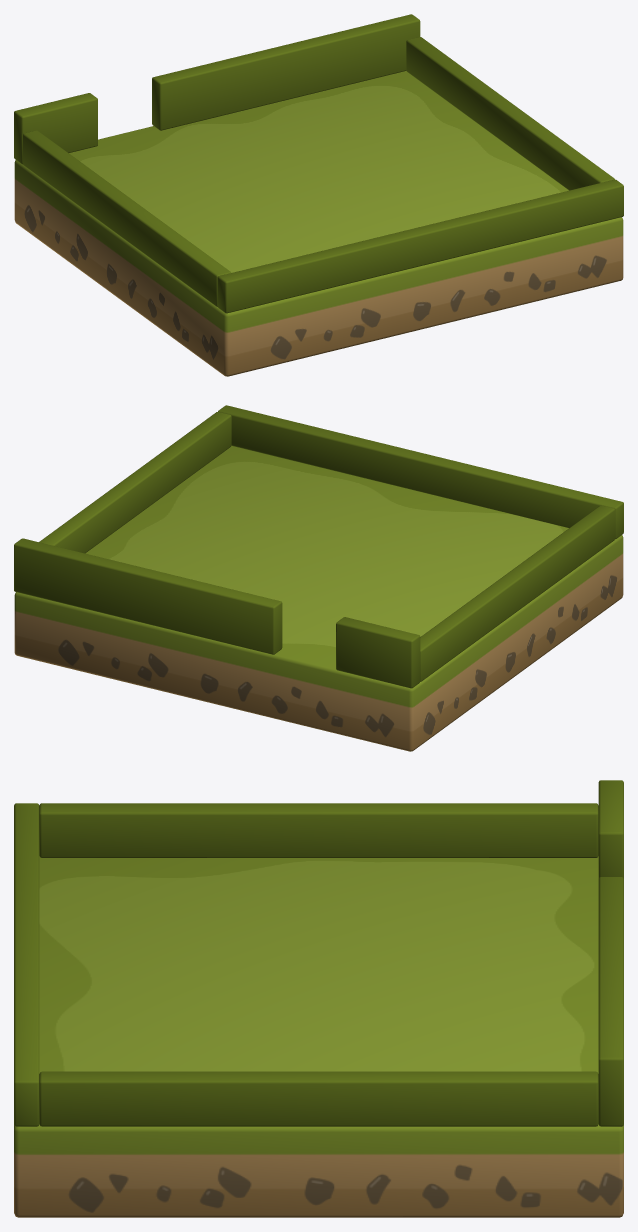
The model's file is Floor2.gltf.
3 renders of one model, top to bottom at view 1: azimuth 30°, elevation 25°; view 2: azimuth 150°, elevation 25°; view 3: azimuth 270°, elevation 25°, orthographic. The views are drawn at different scales.
Visible parts, largest first — view 1: Cube; view 2: Cube; view 3: Cube.
Boxes of the visible parts, box(x1,y1,x2,y2) form: Cube: box(14, 14, 623, 376); Cube: box(14, 405, 623, 751); Cube: box(14, 780, 623, 1217).
Bounding box in the file's own units: 13 × 3.5 × 12.
1 material, 1 textured.
